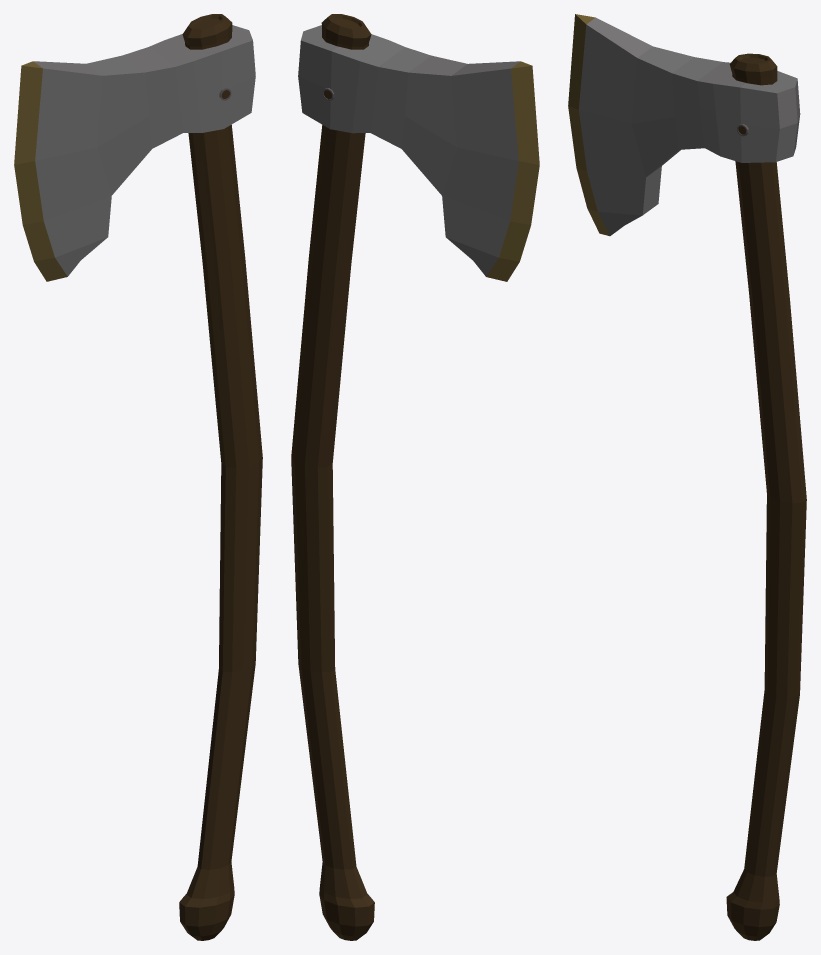
File: splitting-maul.glb
The picture shows the model from 3 angles, left to right: view 1: azimuth 30°, elevation 25°; view 2: azimuth 150°, elevation 25°; view 3: azimuth 330°, elevation 25°; orthographic projection. The views are drawn at different scales.
Parts seen in each view (by area): view 1: Splitting Maul (Low-Poly Axes Pack) Proxy Games; view 2: Splitting Maul (Low-Poly Axes Pack) Proxy Games; view 3: Splitting Maul (Low-Poly Axes Pack) Proxy Games.
Boxes of the visible parts, left/top/right/bottom form: Splitting Maul (Low-Poly Axes Pack) Proxy Games: left=14, top=14, right=262, bottom=940; Splitting Maul (Low-Poly Axes Pack) Proxy Games: left=291, top=14, right=539, bottom=940; Splitting Maul (Low-Poly Axes Pack) Proxy Games: left=568, top=14, right=806, bottom=940.
Bounding box in the file's own units: 0.3713 × 1.32 × 0.0803.
